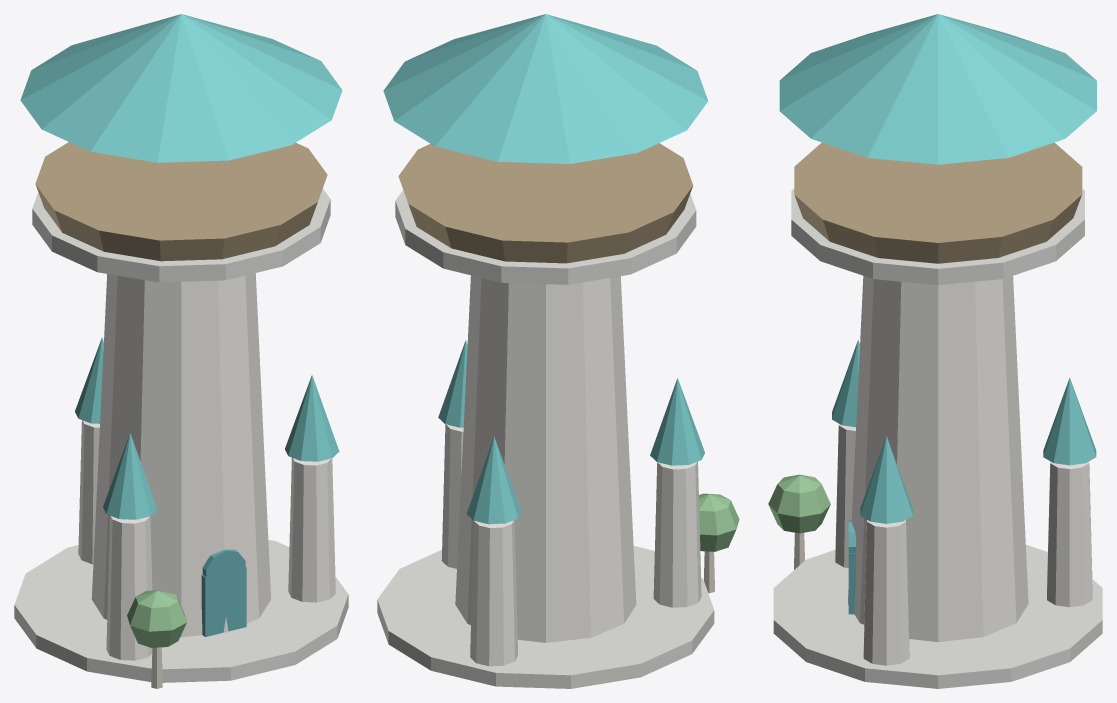
The picture shows the model from 3 angles, left to right: view 1: azimuth 30°, elevation 25°; view 2: azimuth 150°, elevation 25°; view 3: azimuth 270°, elevation 25°; orthographic projection.
Visible parts, largest first — view 1: body; view 2: body; view 3: body.
Boxes of the visible parts, <box> form: body: <box>14,14,348,688</box>; body: <box>377,14,739,688</box>; body: <box>768,14,1102,688</box>.
Size of the model in its own units: 11.2 by 22.1 by 11.1.
